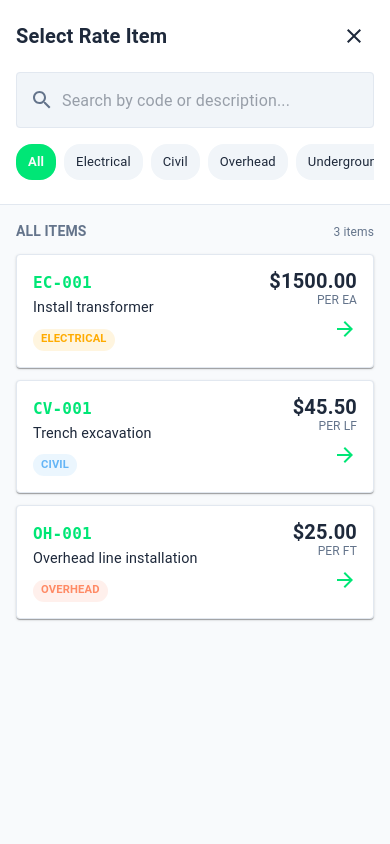
Test: PriceBookSelector Component › Search › should have clear search button
Expected: the text "EC-001" is shown, [33,271,92,295]
In the field with placeholder "Search by code or description...": x=218, y=100 [62,72,374,128], type "test"
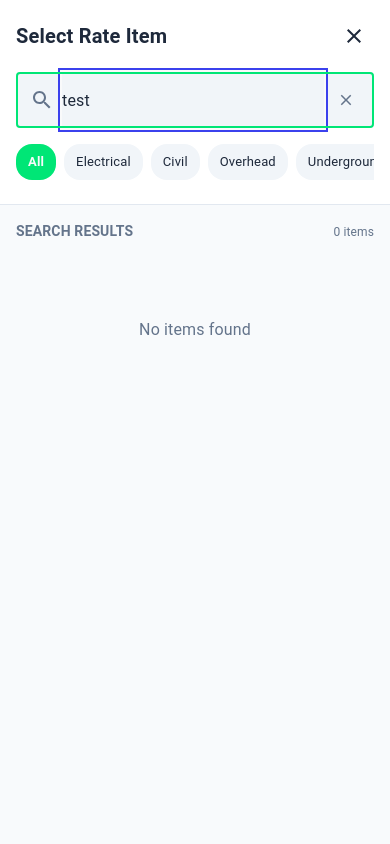
Now the button named "Clear search" is shown
Click the button named "Clear search": x=346, y=100 [332,86,360,114]
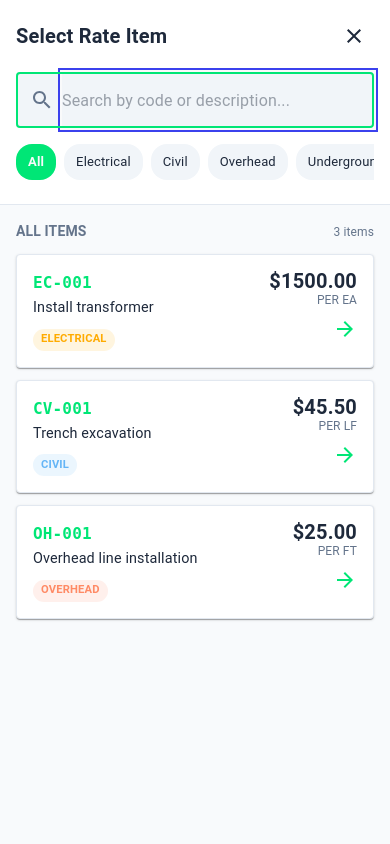
Now the field with placeholder "Search by code or description..." is empty, box [62,72,374,128]
